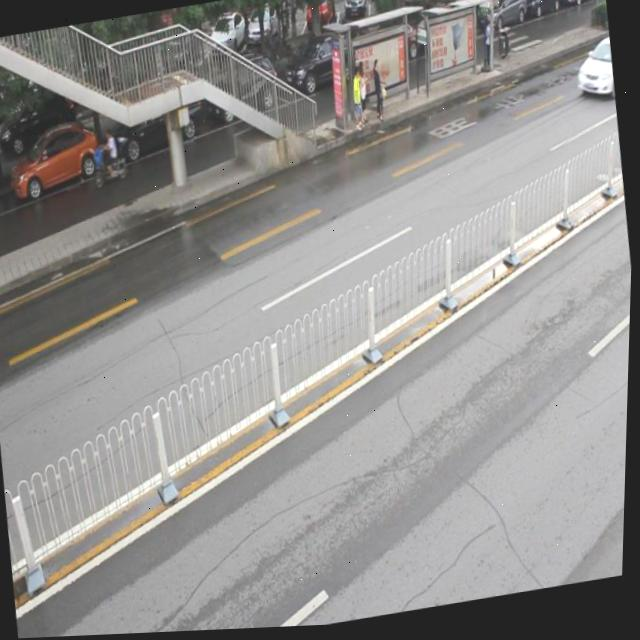car: (8, 120, 108, 202), (106, 90, 207, 166), (206, 56, 285, 129), (281, 31, 359, 101), (571, 40, 617, 109), (0, 157, 3, 224)
